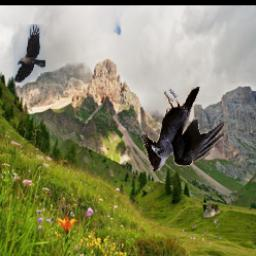Crow: (140, 87, 225, 171), (14, 25, 46, 84)
